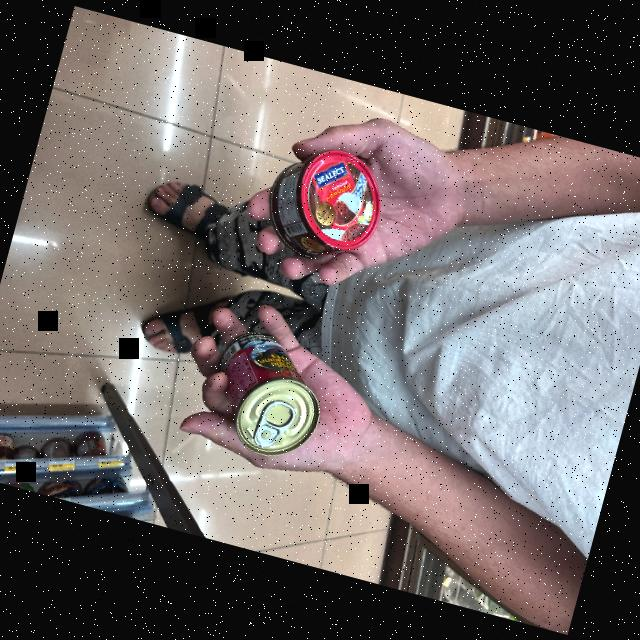can: (203, 311, 339, 472), (263, 130, 400, 278)
